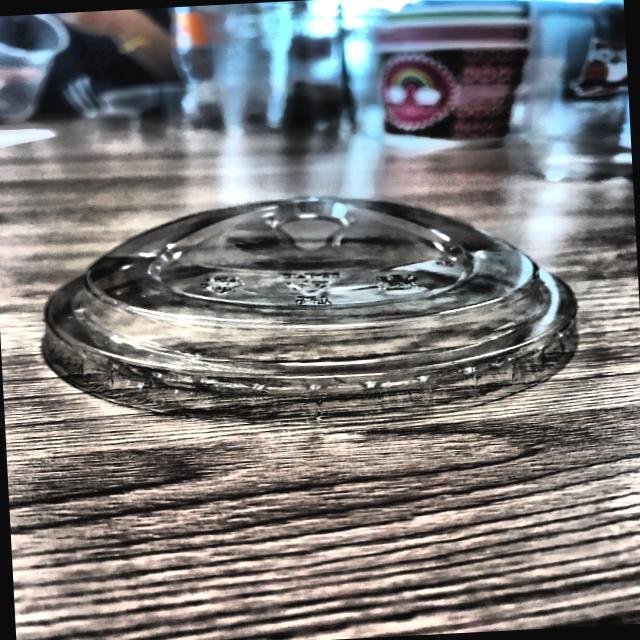plastic cup: (22, 172, 606, 450)
